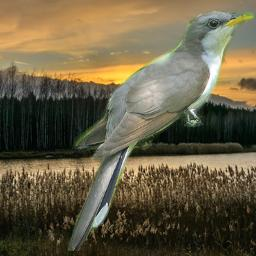Cuckoo: (68, 11, 254, 251)
